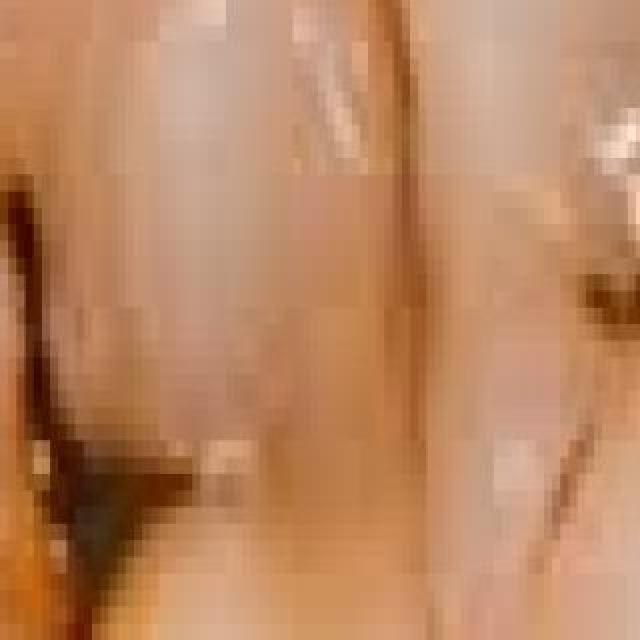cavities: (0, 124, 268, 640), (500, 24, 640, 640), (632, 0, 640, 94)
